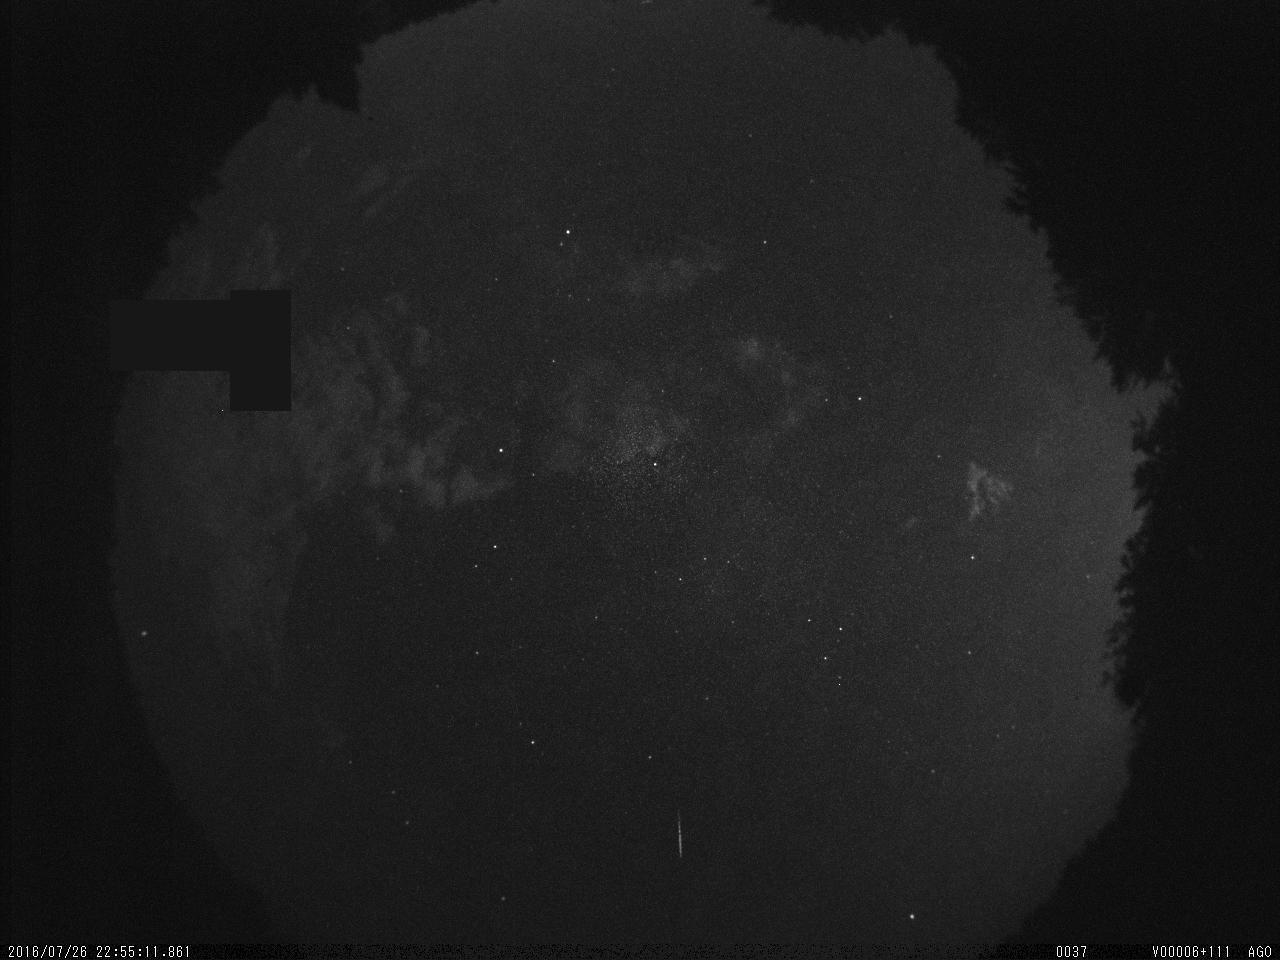meteor: (674, 804, 689, 859)
